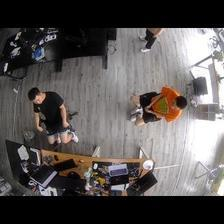normal: (27, 83, 77, 145), (127, 85, 190, 128)
